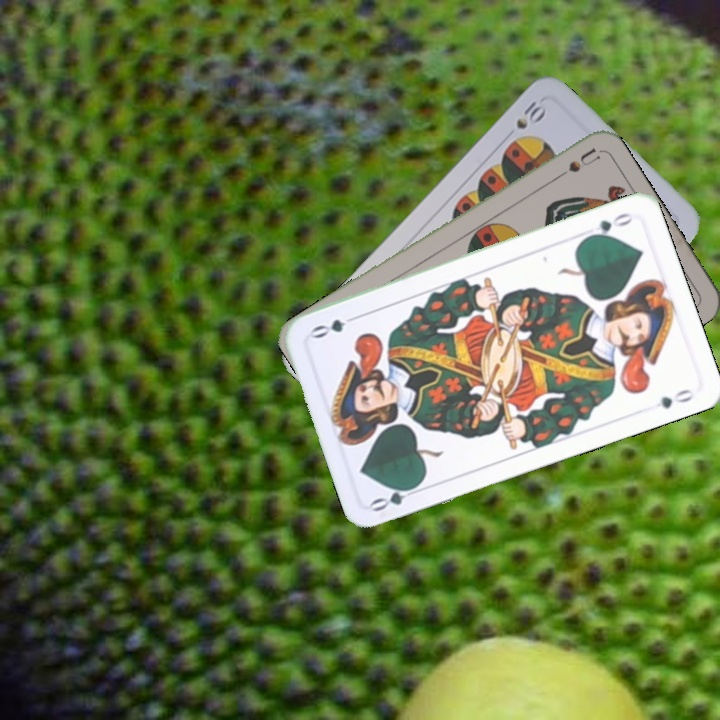GO: (367, 479, 425, 515), (581, 209, 636, 242)
S10: (512, 97, 549, 132)
SU: (547, 144, 602, 185)
